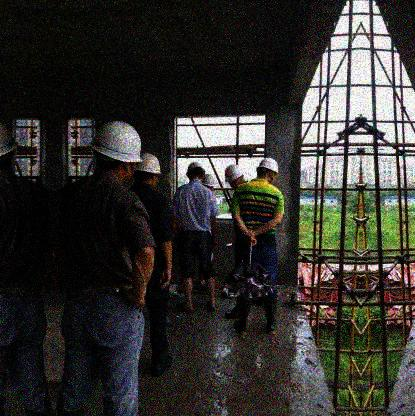helmet: (86, 120, 143, 188), (135, 151, 162, 188), (255, 154, 281, 186), (183, 159, 206, 186), (224, 164, 246, 190)
